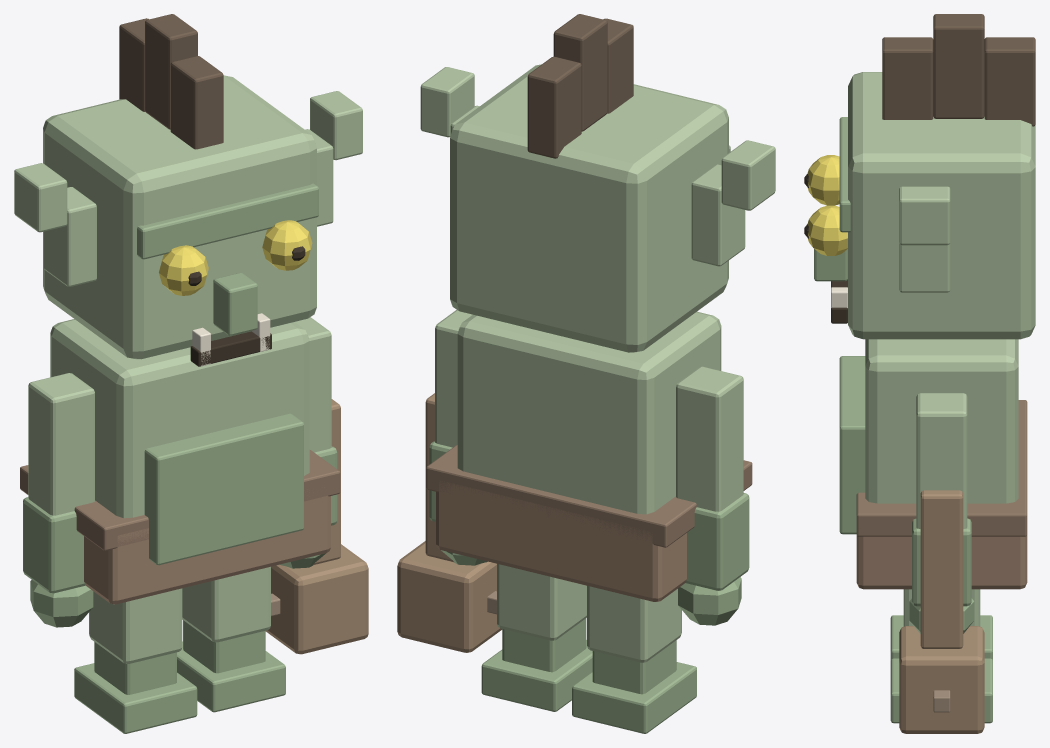
File: goblin_v2.glb
The picture shows the model from 3 angles, left to right: view 1: azimuth 30°, elevation 25°; view 2: azimuth 150°, elevation 25°; view 3: azimuth 270°, elevation 25°; orthographic projection.
Visible parts, largest first — view 1: Head_Skull, Body_Torso, Body_Belly, Loincloth, ArmL_Upper, Club_Head, Brow_Ridge, LegL_Thigh, LegR_Thigh, LegL_Foot, ArmL_Forearm, Mohawk_F (+17 smaller); view 2: Head_Skull, Body_Torso, Loincloth, ArmL_Upper, Club_Head, Belt_Strap, LegL_Thigh, LegR_Thigh, LegL_Foot, Mohawk_B, ArmL_Forearm, LegR_Foot (+10 smaller); view 3: Head_Skull, Body_Torso, Club_Head, Club_Shaft, Loincloth, ArmR_Upper, Mohawk_M, Belt_Strap, Body_Belly, Mohawk_B, Mohawk_F, EarTip_R (+12 smaller).
Part boxes in pixels (x1,y1,x2,y2): Head_Skull: (43,75,316,359); Body_Torso: (50,319,309,518); Body_Belly: (144,413,303,565); Loincloth: (84,487,330,604); ArmL_Upper: (28,373,94,515); Club_Head: (265,544,368,654); Brow_Ridge: (137,183,318,259); LegL_Thigh: (89,588,182,663); LegR_Thigh: (182,566,270,642); LegL_Foot: (74,663,197,733); ArmL_Forearm: (23,497,85,593); Mohawk_F: (170,56,223,149); Head_Skull: (450,64,728,352); Body_Torso: (457,311,721,514); Loincloth: (436,481,686,601); ArmL_Upper: (676,366,743,511); Club_Head: (397,541,502,652); Belt_Strap: (426,444,752,547); LegL_Thigh: (587,585,681,662); LegR_Thigh: (497,564,586,640); LegL_Foot: (572,662,696,733); Mohawk_B: (527,56,581,158); ArmL_Forearm: (686,493,749,590); LegR_Foot: (481,640,592,711); Head_Skull: (848,72,1035,339); Body_Torso: (865,339,1018,503); Club_Head: (899,626,984,733); Club_Shaft: (920,490,963,648); Loincloth: (856,535,1027,589); ArmR_Upper: (916,393,967,528); Mohawk_M: (933,14,984,118); Belt_Strap: (856,400,1027,536); Body_Belly: (839,356,865,534); Mohawk_B: (984,37,1035,126); Mohawk_F: (882,37,933,119); EarTip_R: (899,186,950,245).
Bounding box in the file's own units: 0.47 × 0.86 × 0.2714.
